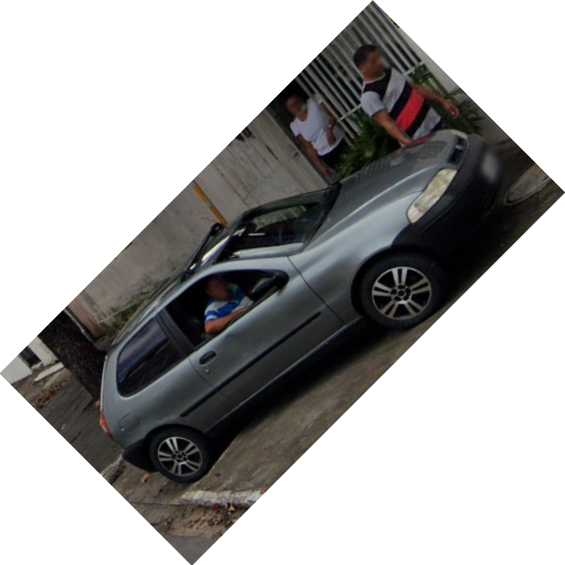car: (97, 125, 501, 482)
